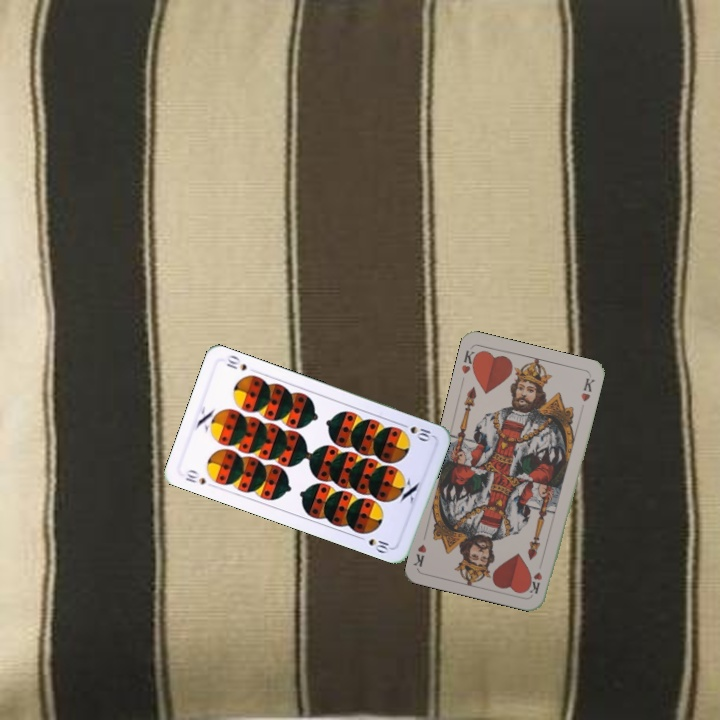HK: (457, 345, 481, 376), (526, 568, 545, 596)
S10: (396, 419, 435, 443), (181, 466, 208, 487)
